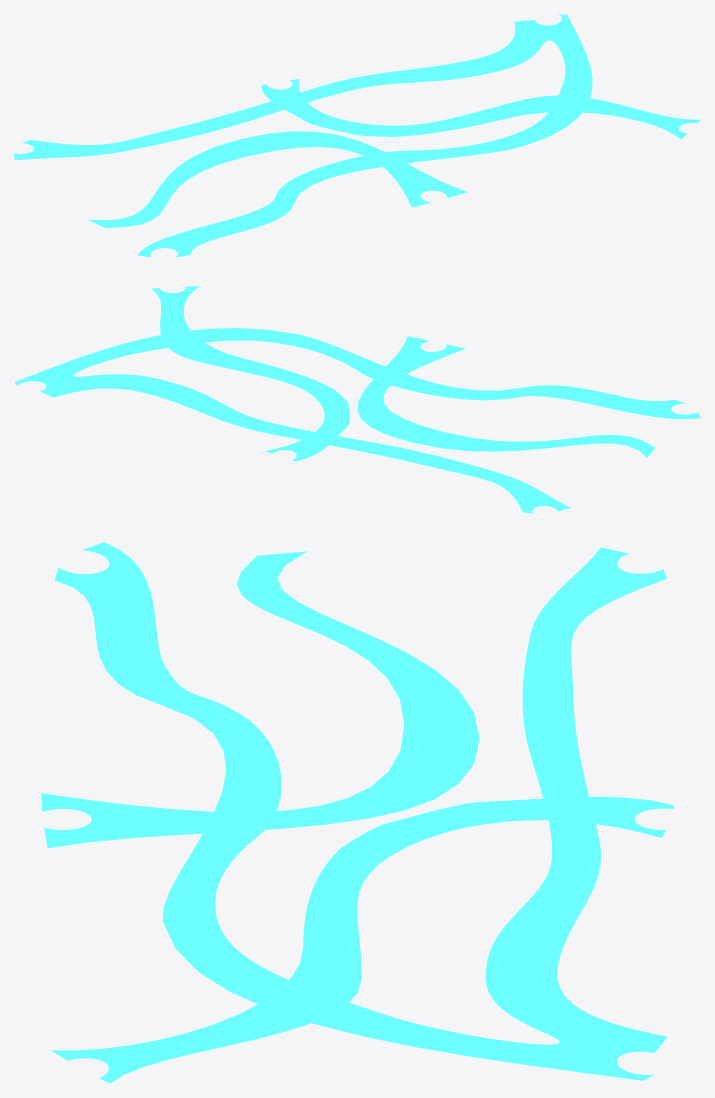
The model's file is plave sare 1.fbx.
3 views of the same model, one above another, from view 1: azimuth 30°, elevation 25°; view 2: azimuth 150°, elevation 25°; view 3: azimuth 270°, elevation 25° (orthographic). The views are drawn at different scales.
Visible parts, largest first — view 1: HoneyComb.002; view 2: HoneyComb.002; view 3: HoneyComb.002.
Part boxes in pixels (x1,y1,x2,y2): HoneyComb.002: [14, 14, 700, 257]; HoneyComb.002: [14, 286, 700, 513]; HoneyComb.002: [41, 542, 673, 1083].
Bounding box in the file's own units: 476 × 2.67 × 236.
